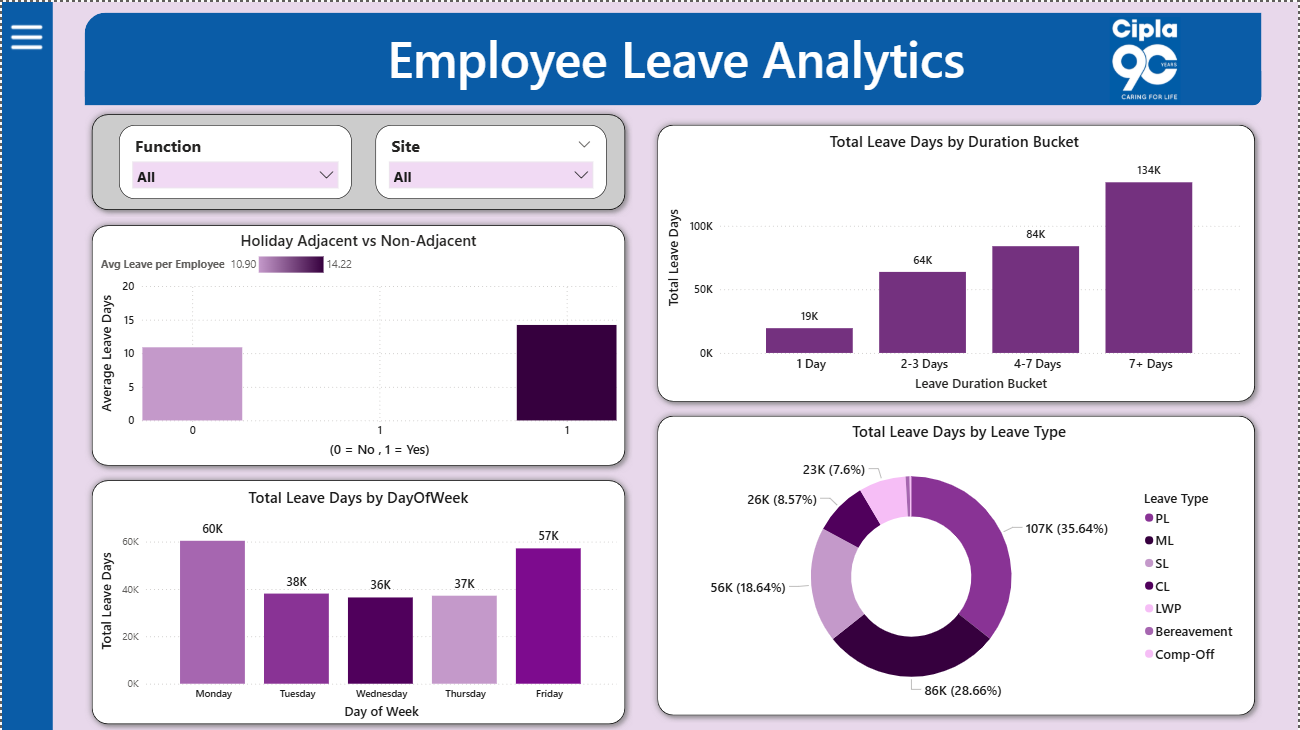

This screenshot's page, from the dashboard's own definition file:
{"tool":"powerbi","page":{"name":"Pattern Insights","canvas":[1600,900],"ordinal":2},"visuals":[{"type":"shape","box":[0,0,62.7,900],"z":0,"group":"g2"},{"type":"actionButton","title":"Flyout","box":[245.6,0,1354.9,900],"z":0,"group":"g1"},{"type":"shape","box":[102.1,129.8,676.6,136.2],"z":0},{"type":"actionButton","title":"Menu Button","box":[5.9,13.7,50,60],"z":1000,"group":"g2"},{"type":"actionButton","title":"back button","box":[298.6,60.8,68.6,60.8],"z":1000,"group":"g1"},{"type":"shape","box":[102.1,85.1,1453.2,42.6],"z":1000},{"type":"shape","title":"Page Navigation","box":[63.3,0,249,900],"z":2000,"group":"g1"},{"type":"shape","box":[102.1,12.8,1453.2,104.3],"z":2000},{"type":"slicer","fields":{"Values":["Employees.Function"]},"box":[144.7,151.1,287.2,91.5],"z":3000},{"type":"actionButton","title":"Pattern Insights","box":[31.9,419.6,266.7,62.7],"z":3000,"group":"g1"},{"type":"actionButton","title":"Location Insights","box":[31.9,318.6,266.7,62.7],"z":4000,"group":"g1"},{"type":"shape","box":[102.1,580.9,676.6,319.1],"z":4000},{"type":"shape","box":[102.1,266,676.6,314.9],"z":5000},{"type":"actionButton","title":"Executive Overview","box":[31.9,217.6,266.7,62.7],"z":5500,"group":"g1"},{"type":"slicer","fields":{"Values":["Sites.Site_Name"]},"box":[461.7,151.1,285.1,91.5],"z":6000},{"type":"clusteredColumnChart","title":"Total Leave Days by DayOfWeek","fields":{"Y":["Leaves.Total Leave Days"],"Category":["Leaves.Start_DayOfWeek"]},"box":[117,597.9,646.8,291.5],"z":7000},{"type":"clusteredColumnChart","title":"Holiday Adjacent vs Non-Adjacent","fields":{"Y":["Leaves.Avg Leave per Employee"],"Category":["Leaves.Is_Holiday_Adjacent_Flag"]},"box":[117,280.9,646.8,285.1],"z":8000},{"type":"shape","box":[800,502,756,388],"z":9000},{"type":"shape","box":[800,142,756,360],"z":10000},{"type":"image","box":[1280,13.8,243.8,107.5],"z":10500},{"type":"group","id":"g1","title":"Menu Objects","box":[31.9,0,1568.1,900],"z":11000},{"type":"group","id":"g2","title":"Menu Bar","box":[0,0,62.7,900],"z":12000},{"type":"donutChart","title":"Total Leave Days by Leave Type","fields":{"Category":["Leaves.Leave_Type"],"Y":["Leaves.Total Leave Days"]},"box":[830,516,704,360],"z":13000},{"type":"clusteredColumnChart","fields":{"Y":["Leaves.Total Leave Days"],"Category":["Leaves.Duration Bucket"]},"box":[816,160,718,326],"z":14000}]}

Visuals, with their boxes in screenshot pixels (x1, y1, x2, y2), scaled from the page's 1600x900 canvas onto the 1300x730 screenshot:
shape: [left=0, top=0, right=51, bottom=729]
"Flyout" actionButton: [left=200, top=0, right=1299, bottom=729]
shape: [left=83, top=105, right=633, bottom=216]
"Menu Button" actionButton: [left=5, top=11, right=45, bottom=60]
"back button" actionButton: [left=243, top=49, right=298, bottom=99]
shape: [left=83, top=69, right=1264, bottom=104]
"Page Navigation" shape: [left=51, top=0, right=254, bottom=729]
shape: [left=83, top=10, right=1264, bottom=95]
slicer - Employees.Function: [left=118, top=123, right=351, bottom=197]
"Pattern Insights" actionButton: [left=26, top=340, right=243, bottom=391]
"Location Insights" actionButton: [left=26, top=258, right=243, bottom=309]
shape: [left=83, top=471, right=633, bottom=729]
shape: [left=83, top=216, right=633, bottom=471]
"Executive Overview" actionButton: [left=26, top=176, right=243, bottom=227]
slicer - Sites.Site_Name: [left=375, top=123, right=607, bottom=197]
"Total Leave Days by DayOfWeek" clusteredColumnChart: [left=95, top=485, right=621, bottom=721]
"Holiday Adjacent vs Non-Adjacent" clusteredColumnChart: [left=95, top=228, right=621, bottom=459]
shape: [left=650, top=407, right=1264, bottom=722]
shape: [left=650, top=115, right=1264, bottom=407]
image: [left=1040, top=11, right=1238, bottom=98]
"Menu Objects" group: [left=26, top=0, right=1299, bottom=729]
"Menu Bar" group: [left=0, top=0, right=51, bottom=729]
"Total Leave Days by Leave Type" donutChart: [left=674, top=419, right=1246, bottom=711]
clusteredColumnChart - Leaves.Total Leave Days x Leaves.Duration Bucket: [left=663, top=130, right=1246, bottom=394]
